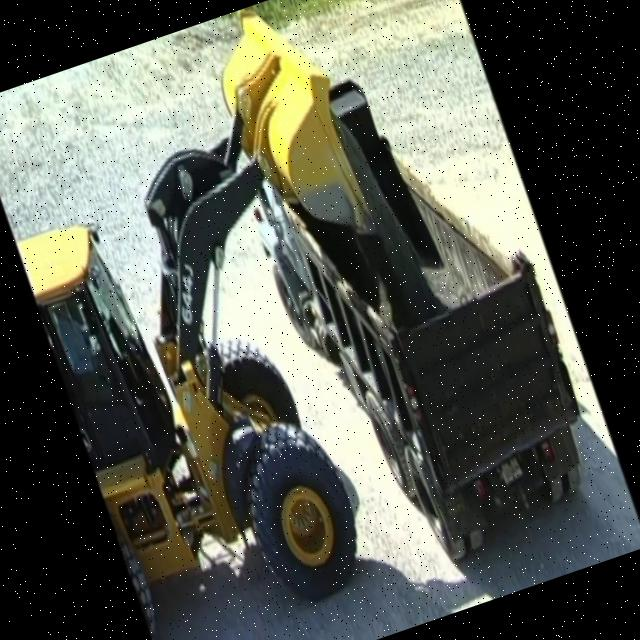Dump Truck: (204, 11, 626, 598)
Loader: (0, 0, 493, 640)
